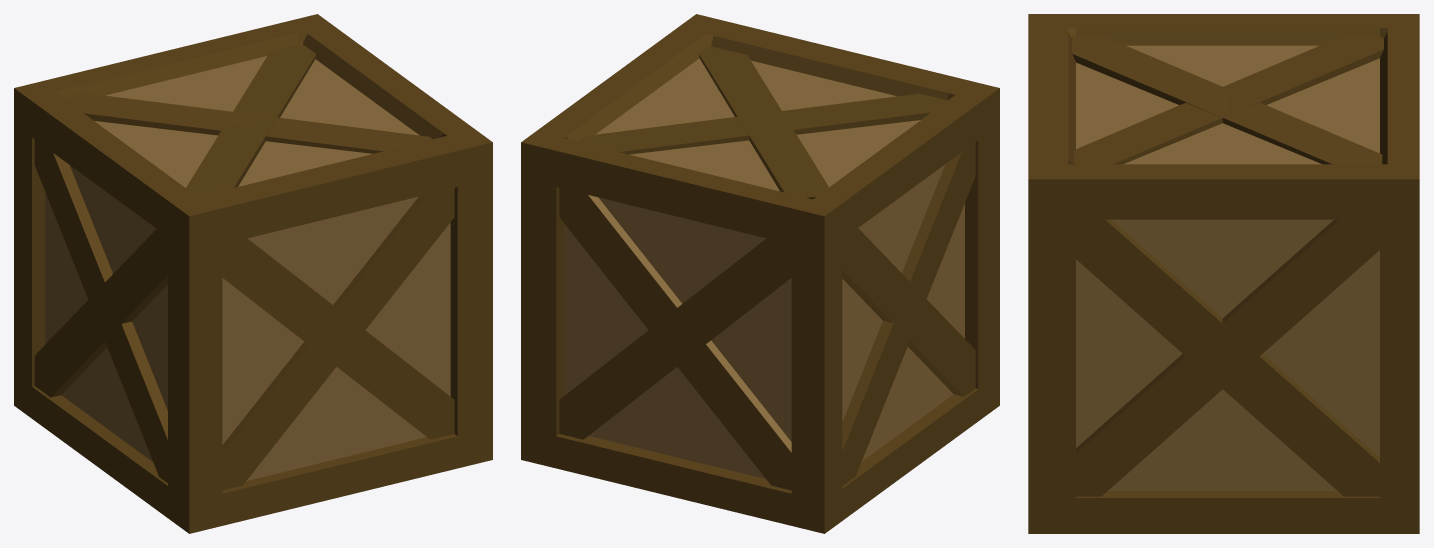
File: Crate.fbx
3 views of the same model, side by side, from view 1: azimuth 30°, elevation 25°; view 2: azimuth 150°, elevation 25°; view 3: azimuth 270°, elevation 25° (orthographic). The views are drawn at different scales.
Parts seen in each view (by area): view 1: Cube.001; view 2: Cube.001; view 3: Cube.001.
Part boxes in pixels (<box>): Cube.001: <box>14,14,492,533</box>; Cube.001: <box>521,14,999,533</box>; Cube.001: <box>1028,14,1419,533</box>.
Bounding box in the file's own units: 255 × 255 × 255.
